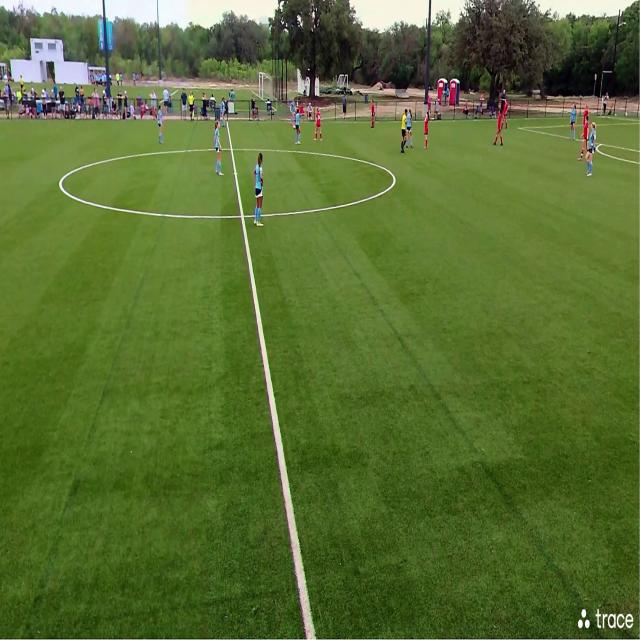ball: (292, 124, 296, 130)
team1: (578, 110, 590, 163), (582, 102, 592, 154), (492, 110, 504, 147), (500, 90, 509, 132), (314, 106, 324, 143), (423, 108, 430, 148), (369, 98, 376, 128)
team2: (252, 153, 265, 226), (212, 122, 224, 177), (585, 121, 597, 176), (569, 102, 578, 140), (157, 108, 166, 144), (408, 109, 415, 148), (293, 111, 301, 143), (291, 98, 295, 124)
